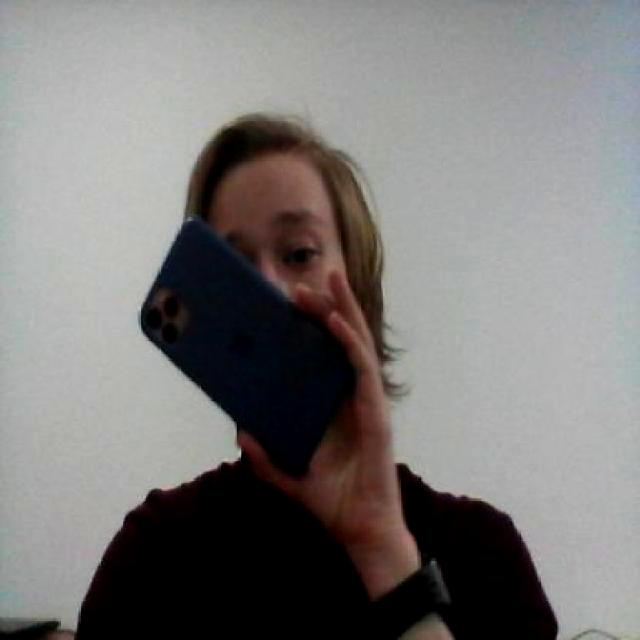lens: (139, 292, 193, 351)
phone: (126, 212, 372, 498)
